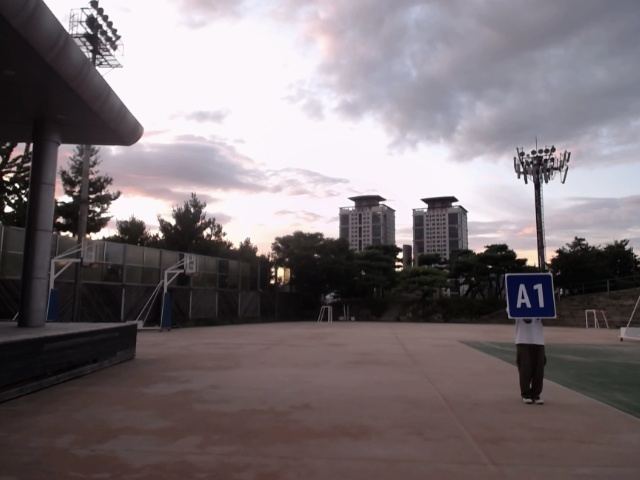delivery_a1: (506, 273, 556, 318)
